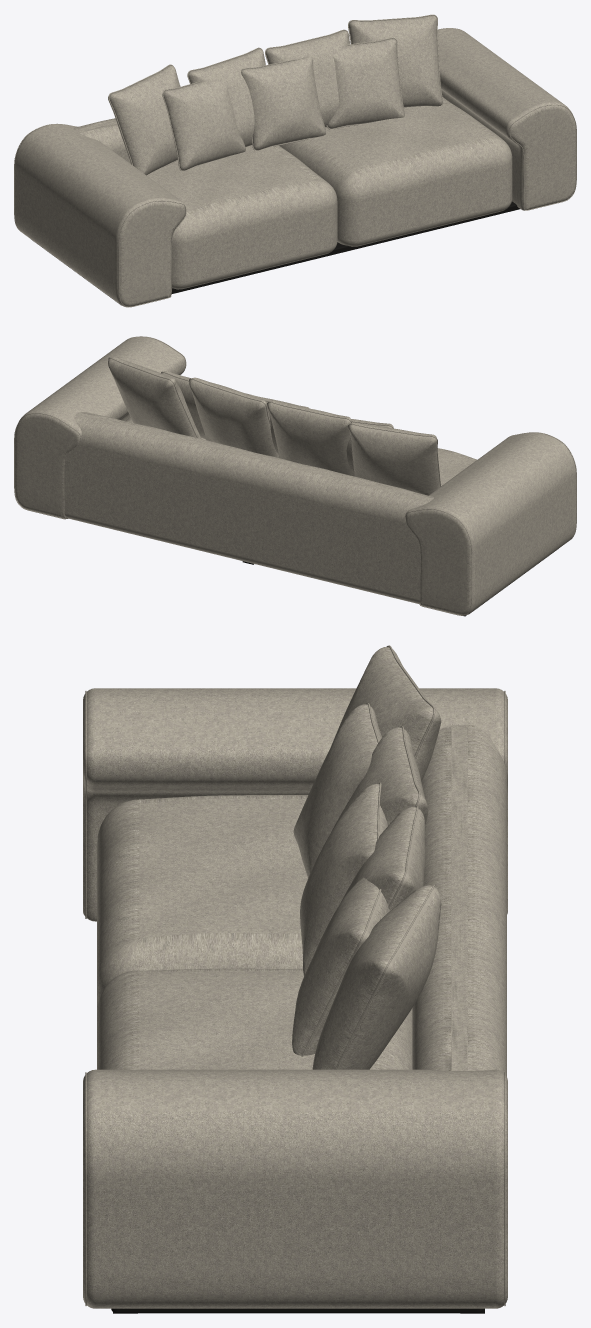
The model's file is straight.glb.
3 renders of one model, top to bottom at view 1: azimuth 30°, elevation 25°; view 2: azimuth 150°, elevation 25°; view 3: azimuth 270°, elevation 25°, orthographic. The views are drawn at different scales.
Parts seen in each view (by area): view 1: fabric (×2), pillows (×2), trim; view 2: fabric (×2), pillows (×2); view 3: fabric (×2), pillows (×2), trim.
Part boxes in pixels (x1,y1,x2,y2): fabric (×2): [14, 28, 576, 307]; pillows (×2): [108, 14, 443, 175]; trim: [32, 201, 519, 301]; fabric (×2): [14, 336, 576, 615]; pillows (×2): [108, 357, 440, 495]; fabric (×2): [83, 688, 507, 1308]; pillows (×2): [292, 645, 441, 1069]; trim: [111, 1308, 482, 1313].
Bounding box in the file's own units: 3 × 0.9512 × 1.2.
Materials: 3 (3 with a texture image).
